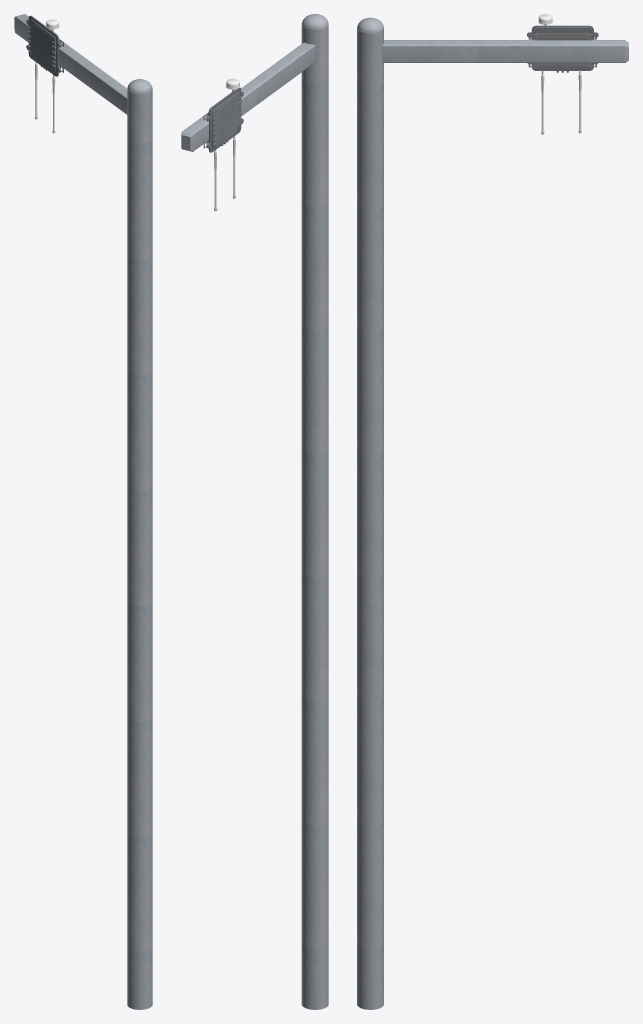
The model's file is RSU_1.FBX.
3 renders of one model, left to right at view 1: azimuth 30°, elevation 25°; view 2: azimuth 150°, elevation 25°; view 3: azimuth 270°, elevation 25°, orthographic. The views are drawn at different scales.
Parts seen in each view (by area): view 1: RSU_1; view 2: RSU_1; view 3: RSU_1.
Boxes of the visible parts, x1,y1,x2,y2 form: RSU_1: [14, 14, 152, 1009]; RSU_1: [181, 14, 328, 1009]; RSU_1: [357, 14, 628, 1009].
Bounding box in the file's own units: 0.1009 × 4 × 1.
Materials: 4 (1 with a texture image).
